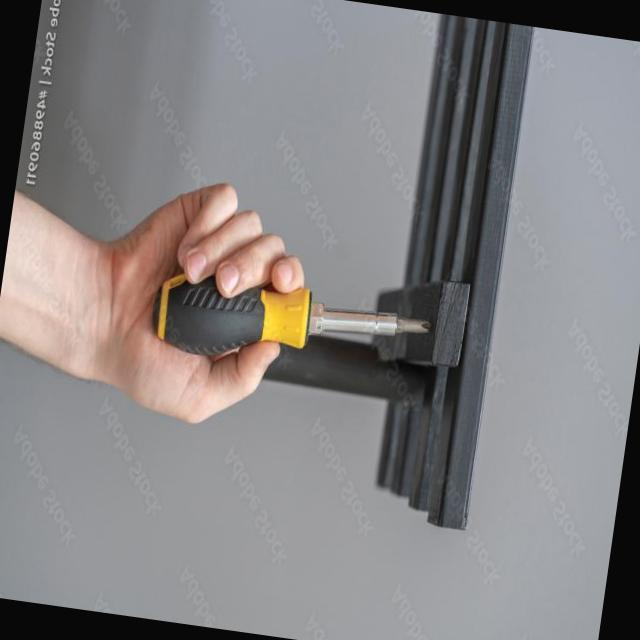screwdriver: (157, 275, 431, 355)
